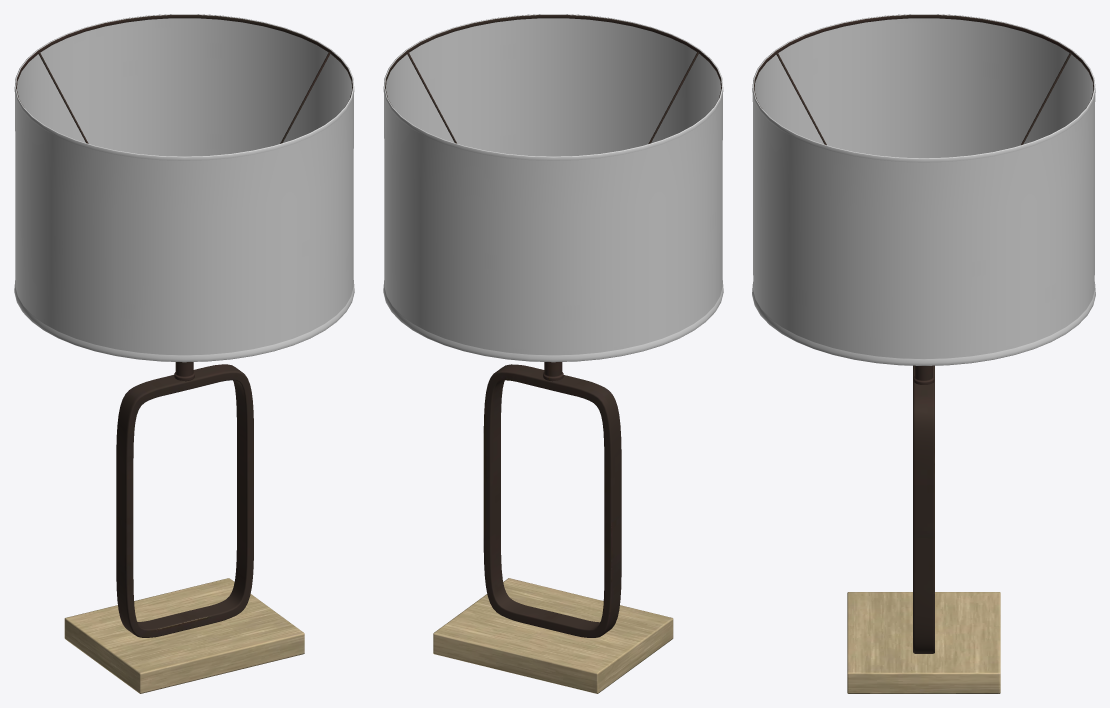
Rendered from abo-B07B4YVX7P.glb.
3 views of the same model, side by side, from view 1: azimuth 30°, elevation 25°; view 2: azimuth 150°, elevation 25°; view 3: azimuth 270°, elevation 25° (orthographic).
Bounding box in the file's own units: 0.279 × 0.508 × 0.279.
1 material, 1 textured.
